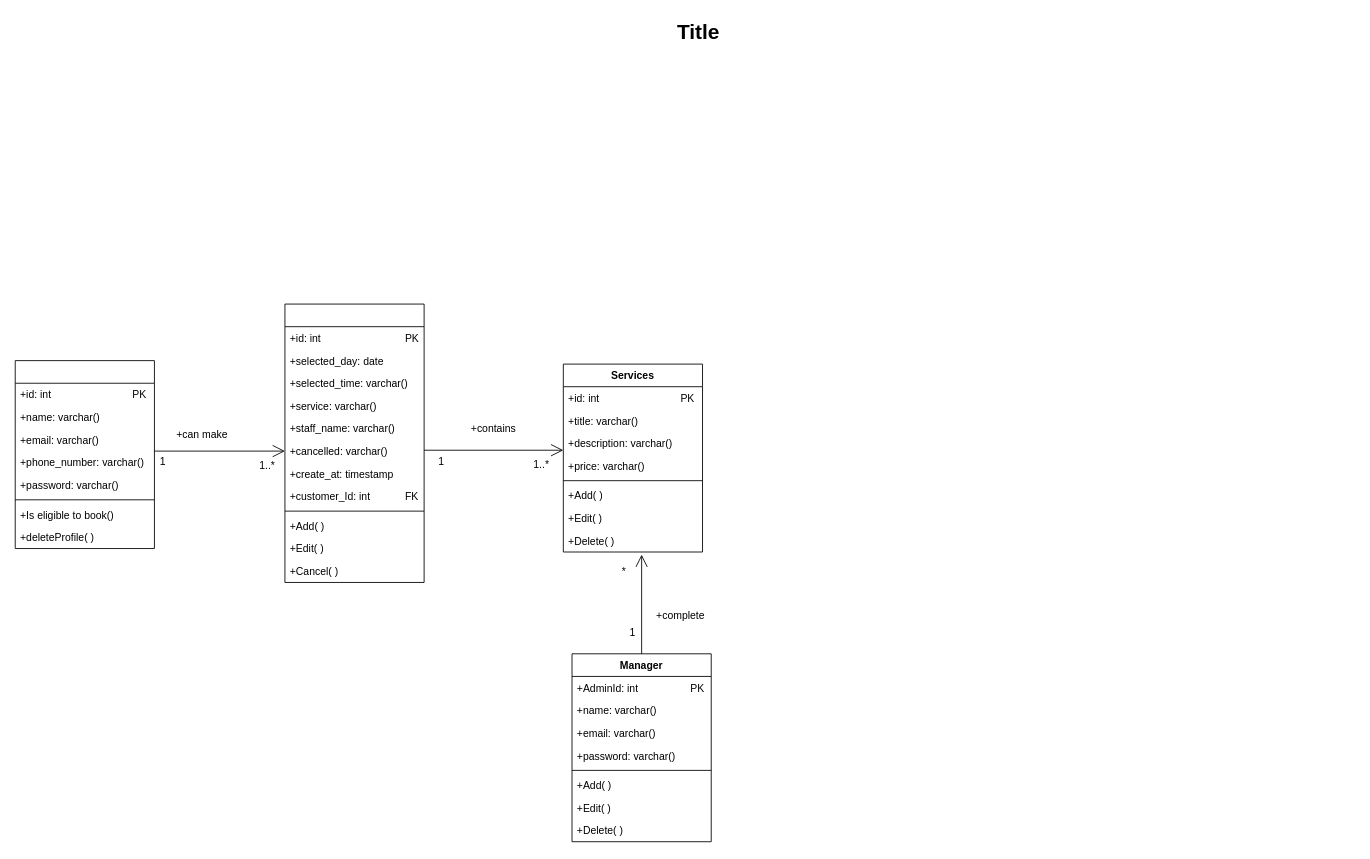
The diagram is 1370 pixels wide and 859 high, and some of its shapes have lost their labels. The shapes that lost their labels are listed below. From the top down, each one's box as (x1, y1, x2, y2) in pixels, then its label:
(14, 360, 154, 549): Customer
(284, 303, 424, 582): Booking
